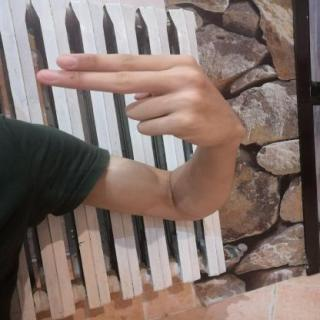AYN: (28, 46, 250, 155)
